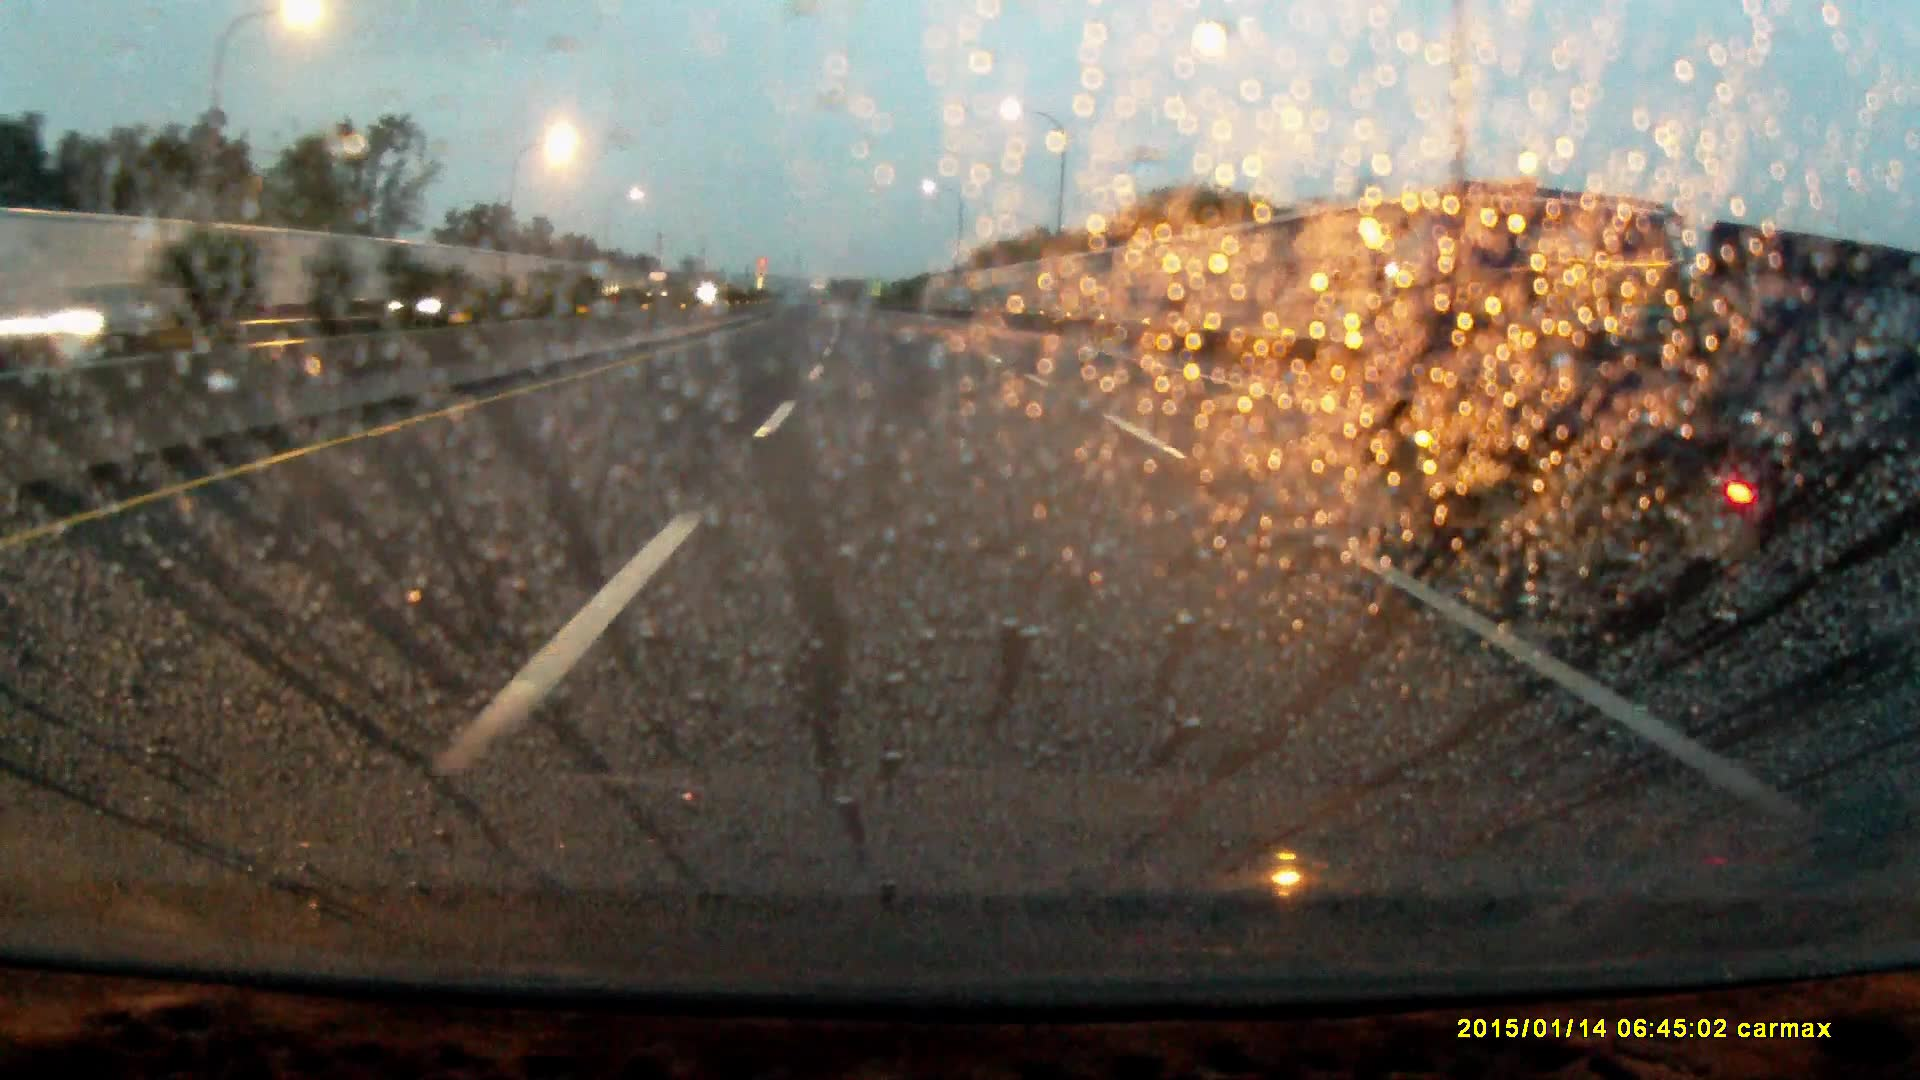vehicle: (1335, 185, 1920, 622), (404, 265, 489, 319), (647, 270, 673, 301)
